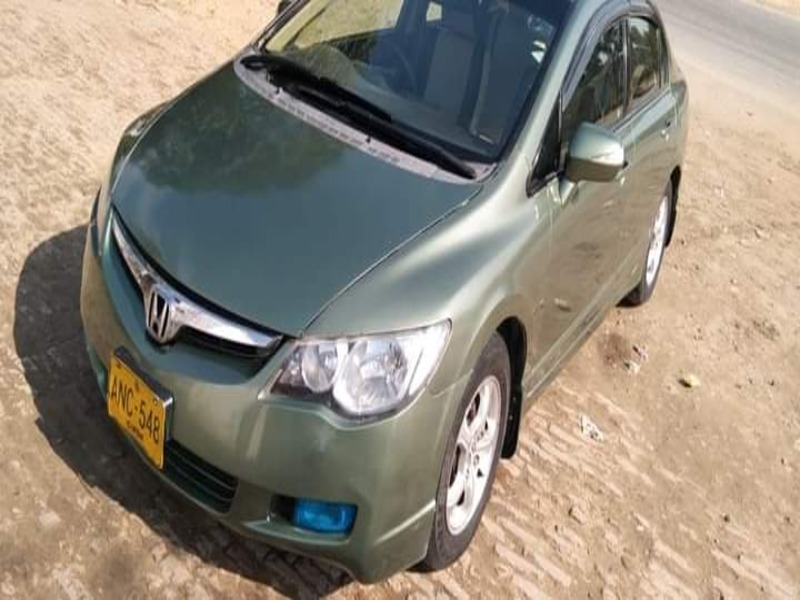License Plate: (98, 348, 169, 471)
